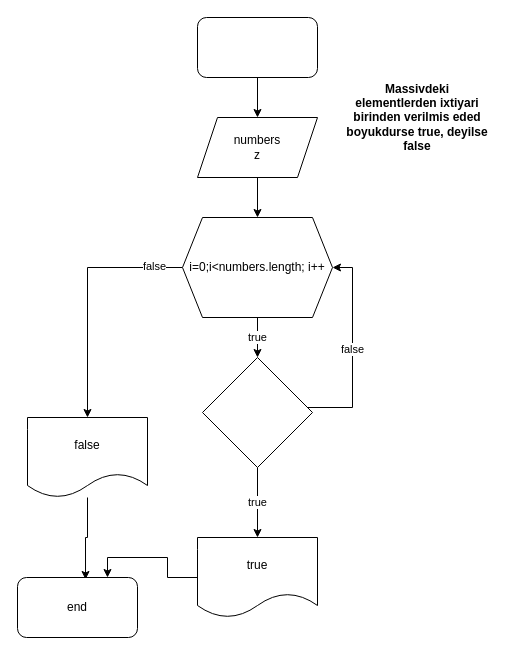
Image size: 510x655. Some labels were removed from this diagram. Here are the shapes that lost their labels. From the top down, the centre of each, then its label:
At pixel 257 47: "start".
At pixel 257 412: "n>numbers[i]".
